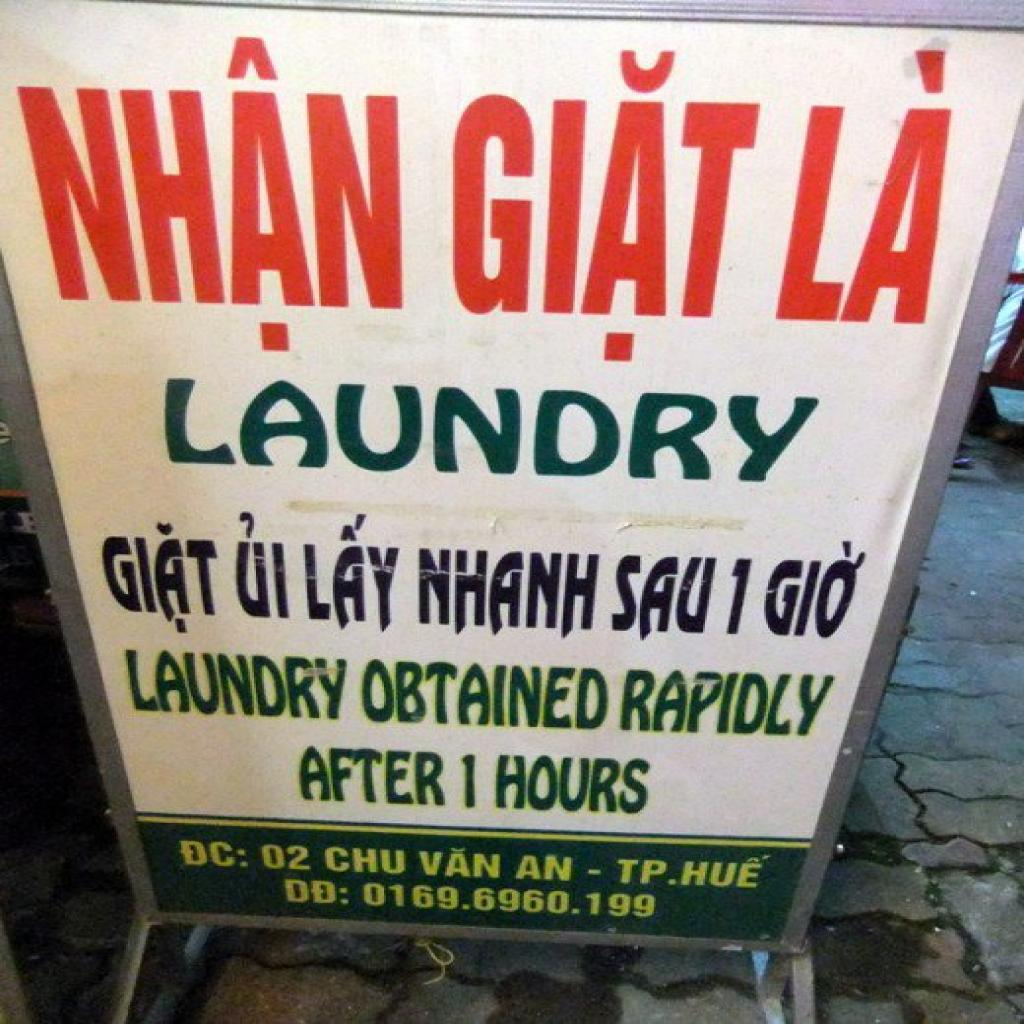text: (2, 27, 410, 365), (427, 42, 790, 384), (146, 368, 837, 489), (768, 36, 1016, 332), (358, 656, 614, 736), (410, 545, 604, 644), (120, 646, 355, 722), (614, 666, 841, 740), (90, 516, 222, 634), (296, 512, 408, 636), (752, 538, 880, 646), (360, 880, 662, 920), (600, 551, 720, 644), (289, 743, 451, 810), (492, 754, 658, 818), (228, 511, 292, 622), (679, 853, 776, 891), (414, 845, 506, 879), (719, 558, 756, 637), (321, 847, 410, 876), (173, 840, 252, 870), (514, 851, 579, 884), (282, 878, 352, 906), (451, 750, 482, 810), (258, 841, 311, 873), (614, 858, 672, 886), (668, 878, 682, 886)
